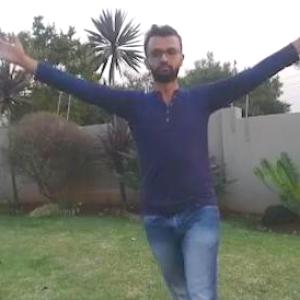takeoff: (2, 17, 299, 299)
